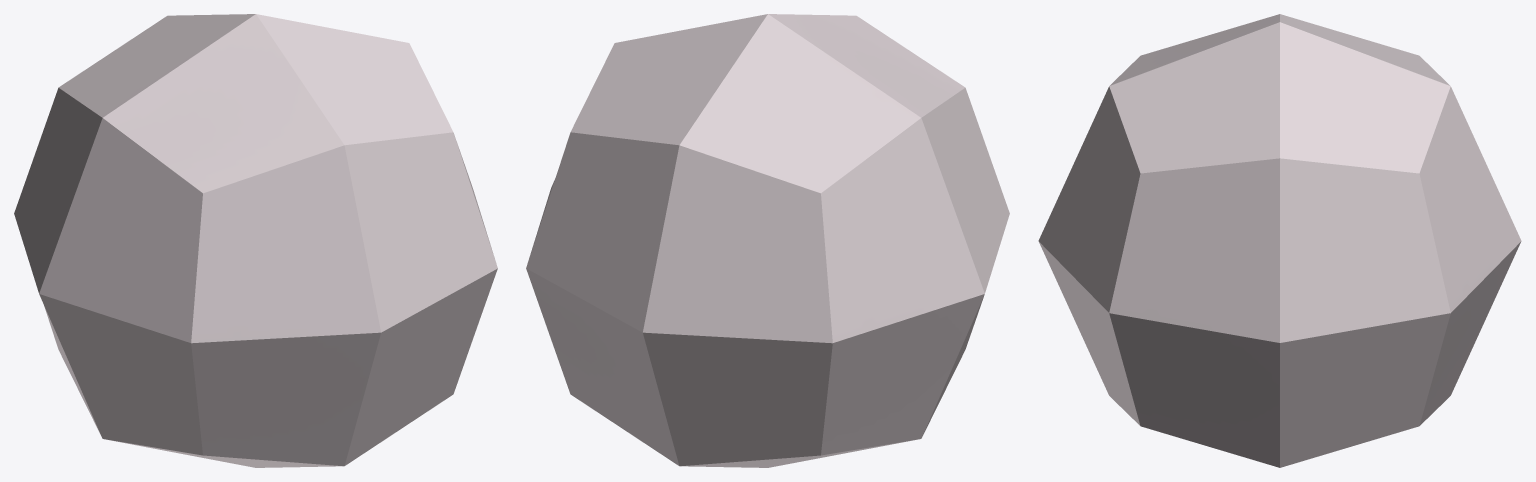
The model's file is Snow_Ball_1.fbx.
3 views of the same model, side by side, from view 1: azimuth 30°, elevation 25°; view 2: azimuth 150°, elevation 25°; view 3: azimuth 270°, elevation 25° (orthographic). The views are drawn at different scales.
Visible parts, largest first — view 1: Snow_Ball_1; view 2: Snow_Ball_1; view 3: Snow_Ball_1.
Part boxes in pixels (x1,y1,x2,y2): Snow_Ball_1: (14,14,497,467); Snow_Ball_1: (526,14,1009,467); Snow_Ball_1: (1038,14,1521,467).
Size of the model in its own units: 39.05 by 39.05 by 39.05.
1 material, 1 textured.
